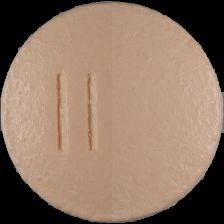55154-5044: (0, 0, 224, 224)
